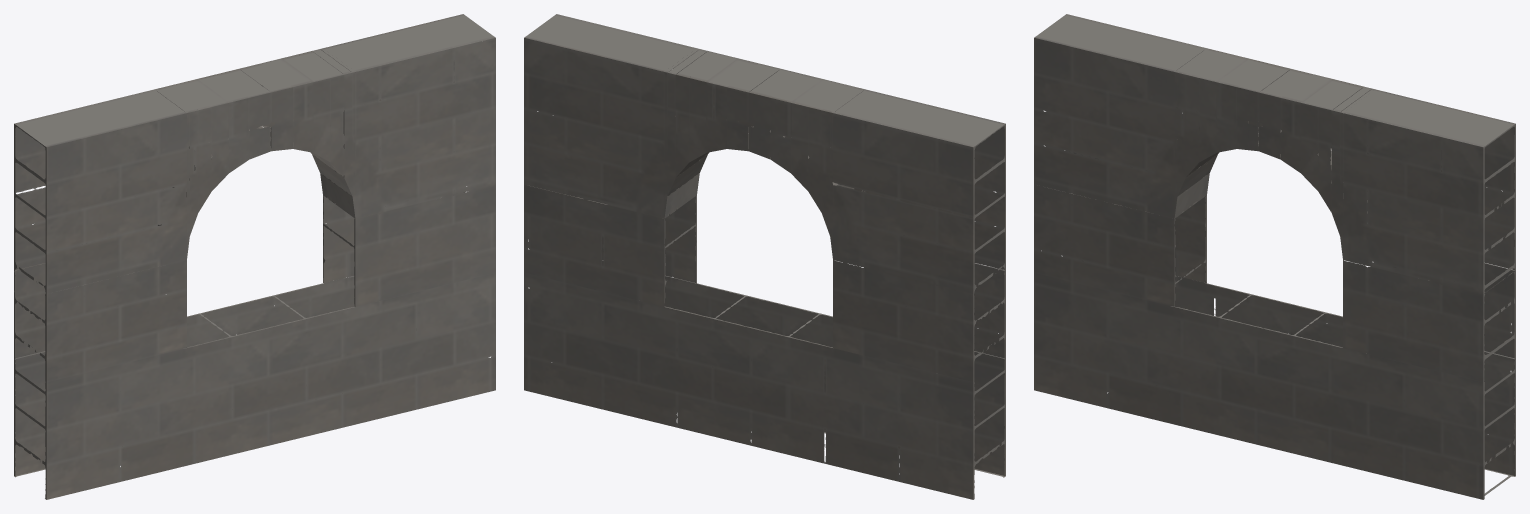
File: stone-arched-window.fbx
3 views of the same model, side by side, from view 1: azimuth 30°, elevation 25°; view 2: azimuth 150°, elevation 25°; view 3: azimuth 330°, elevation 25° (orthographic).
Parts seen in each view (by area): view 1: stone-arched-window; view 2: stone-arched-window; view 3: stone-arched-window.
Part boxes in pixels (bbox=[...]): stone-arched-window: bbox=[14, 14, 495, 499]; stone-arched-window: bbox=[524, 14, 1005, 499]; stone-arched-window: bbox=[1034, 14, 1515, 499].
Bounding box in the file's own units: 400 × 300 × 50.
